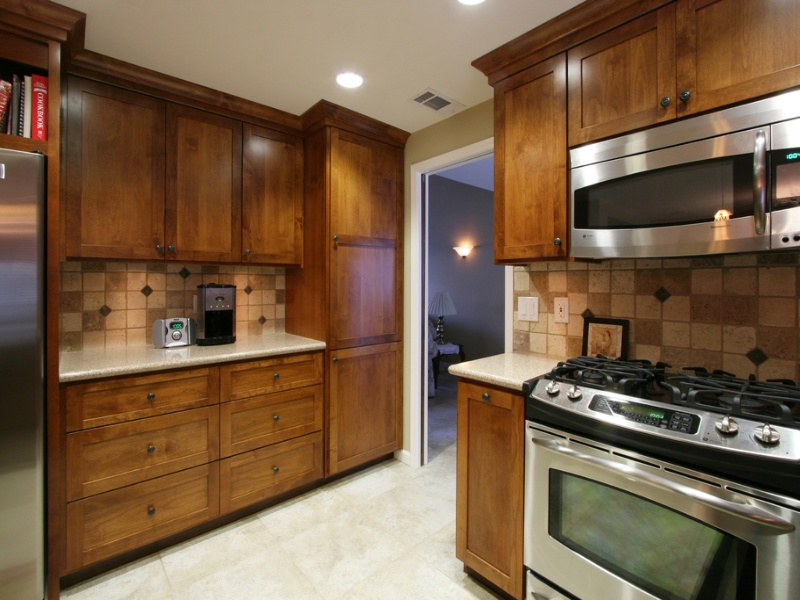oven: (514, 381, 793, 600)
refrigerator: (1, 142, 60, 600)
